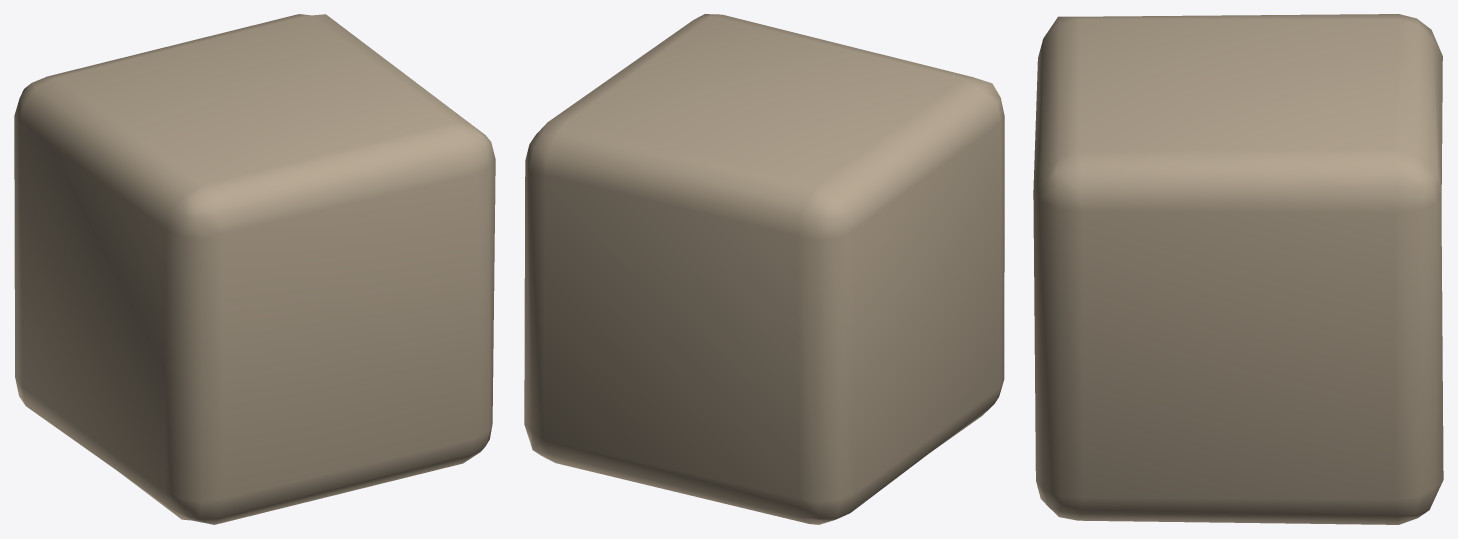
The model's file is rock_cell.glb.
The picture shows the model from 3 angles, left to right: view 1: azimuth 30°, elevation 25°; view 2: azimuth 150°, elevation 25°; view 3: azimuth 270°, elevation 25°; orthographic projection. The views are drawn at different scales.
Visible parts, largest first — view 1: RockCell; view 2: RockCell; view 3: RockCell.
Boxes of the visible parts, left/top/right/bottom form: RockCell: left=14, top=14, right=495, bottom=524; RockCell: left=524, top=14, right=1004, bottom=524; RockCell: left=1033, top=14, right=1443, bottom=524.
Size of the model in its own units: 0.9997 by 0.9984 by 0.9996.
